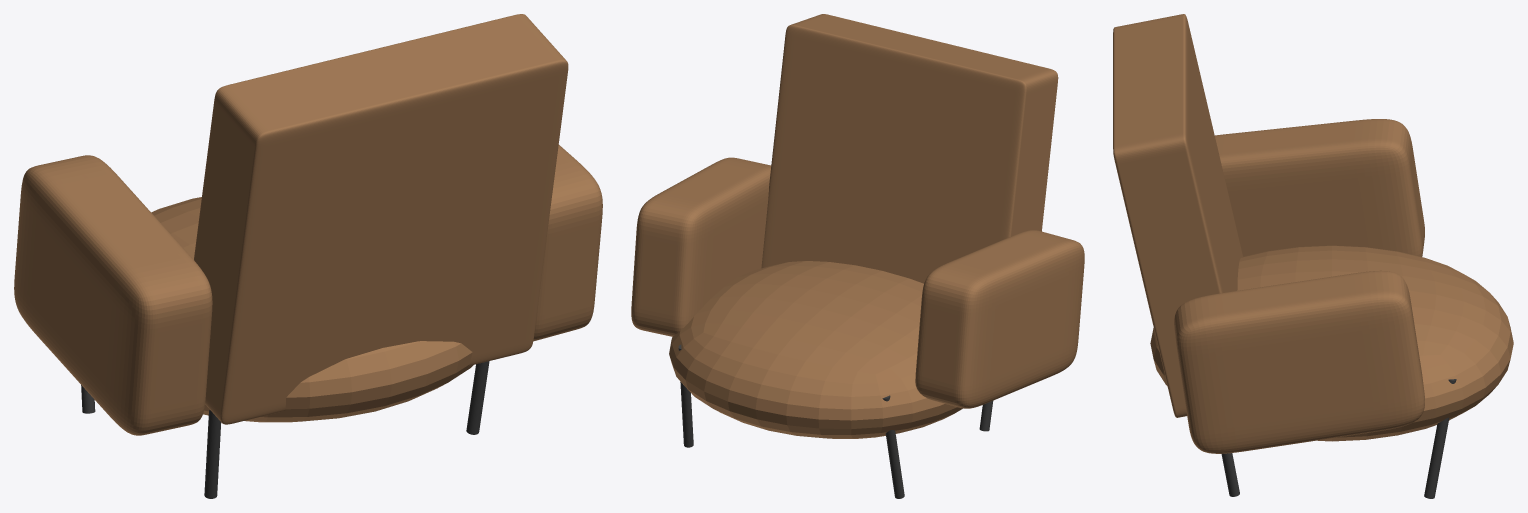
3 renders of one model, left to right at view 1: azimuth 30°, elevation 25°; view 2: azimuth 150°, elevation 25°; view 3: azimuth 270°, elevation 25°, orthographic. The views are drawn at different scales.
Parts seen in each view (by area): view 1: Backrest, Left_Armrest, Seat_Cushion, Right_Armrest, Back_Left_Leg, Back_Right_Leg; view 2: Backrest, Seat_Cushion, Left_Armrest, Right_Armrest, Front_Left_Leg, Front_Right_Leg; view 3: Right_Armrest, Backrest, Left_Armrest, Seat_Cushion, Front_Right_Leg, Back_Right_Leg.
Part boxes in pixels (x1=…): Backrest: x1=194, y1=14, x2=568, y2=424; Left_Armrest: x1=14, y1=155, x2=212, y2=435; Seat_Cushion: x1=151, y1=197, x2=473, y2=422; Right_Armrest: x1=533, y1=144, x2=602, y2=341; Back_Left_Leg: x1=204, y1=410, x2=221, y2=498; Back_Right_Leg: x1=466, y1=361, x2=489, y2=434; Backrest: x1=761, y1=14, x2=1058, y2=283; Seat_Cushion: x1=669, y1=261, x2=962, y2=438; Left_Armrest: x1=915, y1=230, x2=1084, y2=408; Right_Armrest: x1=631, y1=157, x2=771, y2=336; Front_Left_Leg: x1=882, y1=395, x2=904, y2=498; Front_Right_Leg: x1=678, y1=344, x2=693, y2=447; Right_Armrest: x1=1174, y1=270, x2=1424, y2=453; Backrest: x1=1113, y1=14, x2=1242, y2=417; Left_Armrest: x1=1215, y1=119, x2=1424, y2=256; Seat_Cushion: x1=1150, y1=245, x2=1513, y2=441; Front_Right_Leg: x1=1424, y1=379, x2=1456, y2=498; Back_Right_Leg: x1=1221, y1=453, x2=1239, y2=496.
Bounding box in the file's own units: 2.09 × 1.87 × 1.85.
